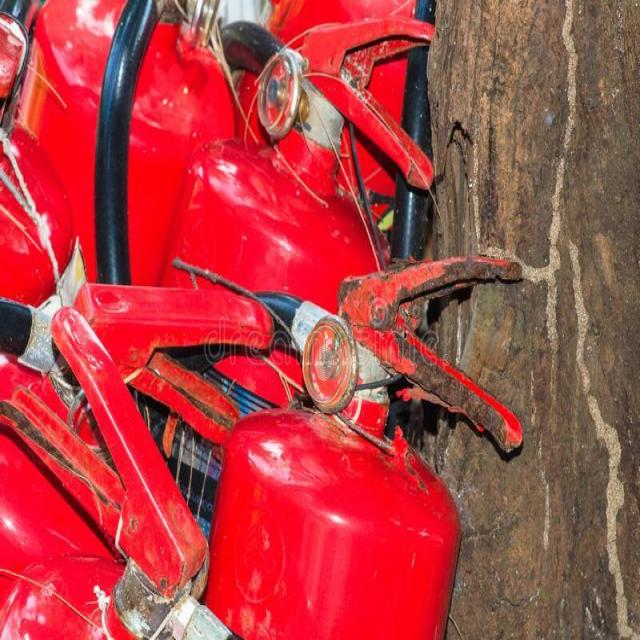fire_extinguisher: (126, 1, 442, 639), (76, 251, 534, 639), (0, 0, 259, 570)
